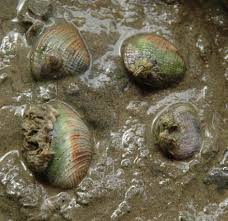cockle: (19, 95, 96, 190), (117, 30, 191, 96), (26, 18, 95, 82), (149, 100, 205, 162)
